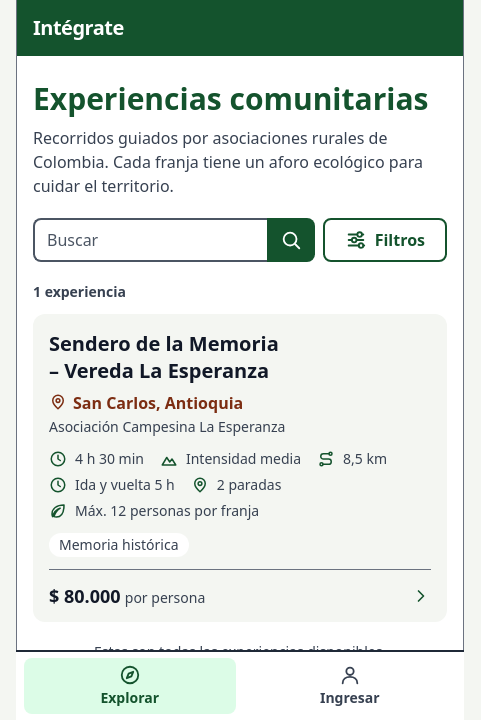
Scenario: catálogo (T-1.10a) › lleva la búsqueda por texto a la URL y a la consulta
The image size is (481, 720).
Type "memoria" into the search field named "buscar experiencias" at (150, 240), box [33,218,267,262]
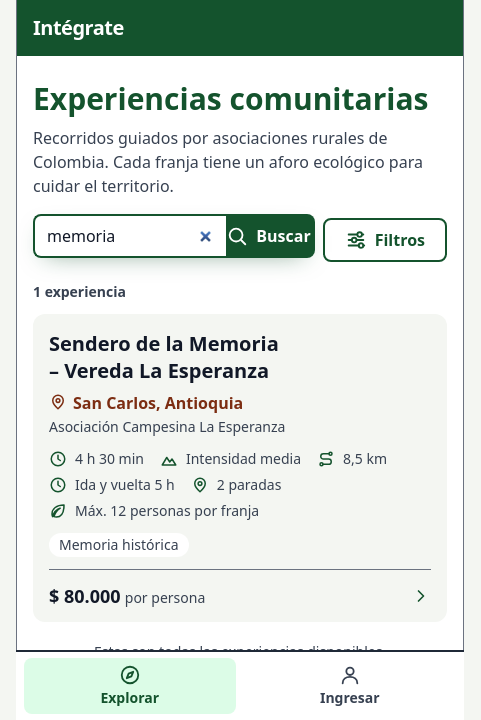
Click the button "Buscar" at (270, 236), box [226,214,315,258]
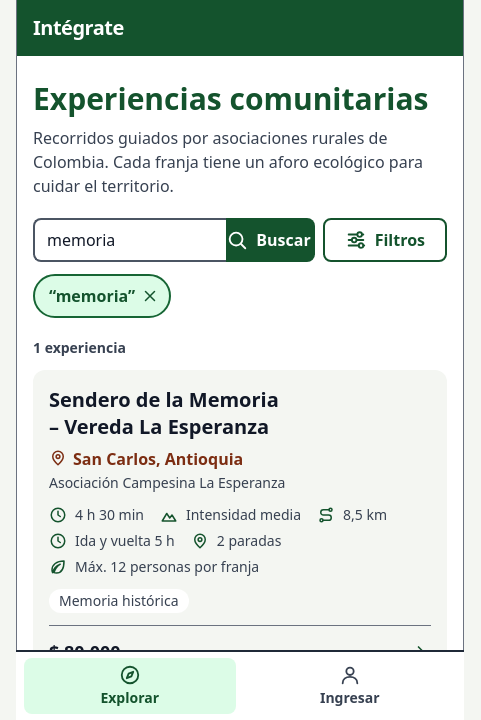
Now the button with aria-label "Quitar filtro Búsqueda: “memoria”" is shown, box [33,274,171,318]
